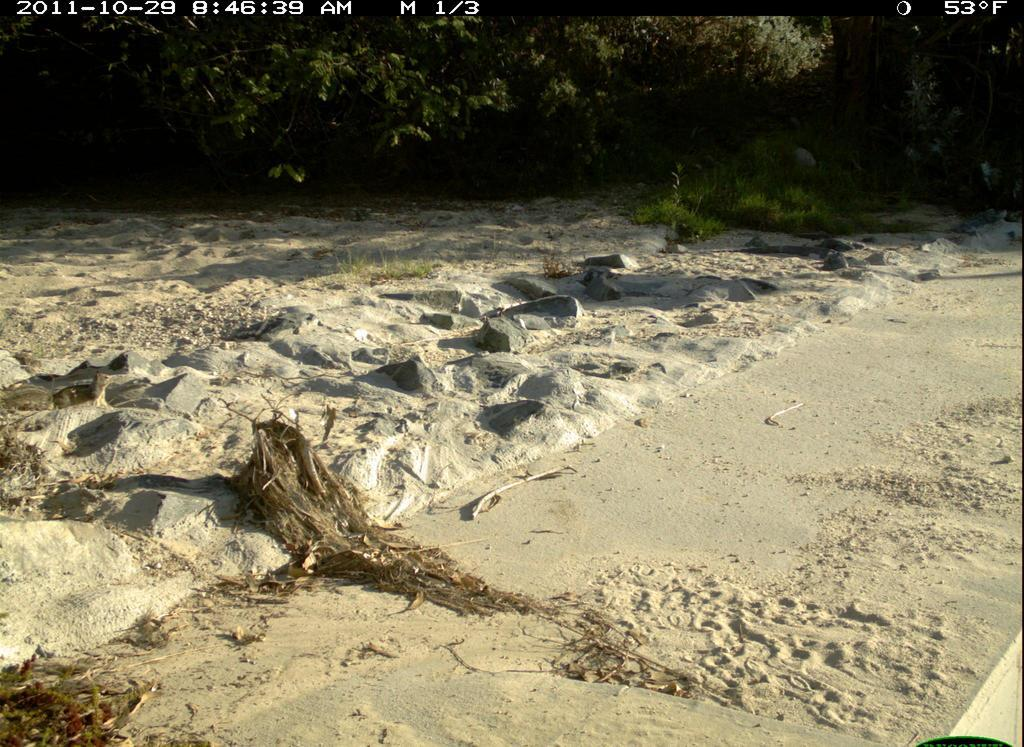squirrel: (2, 364, 120, 427)
